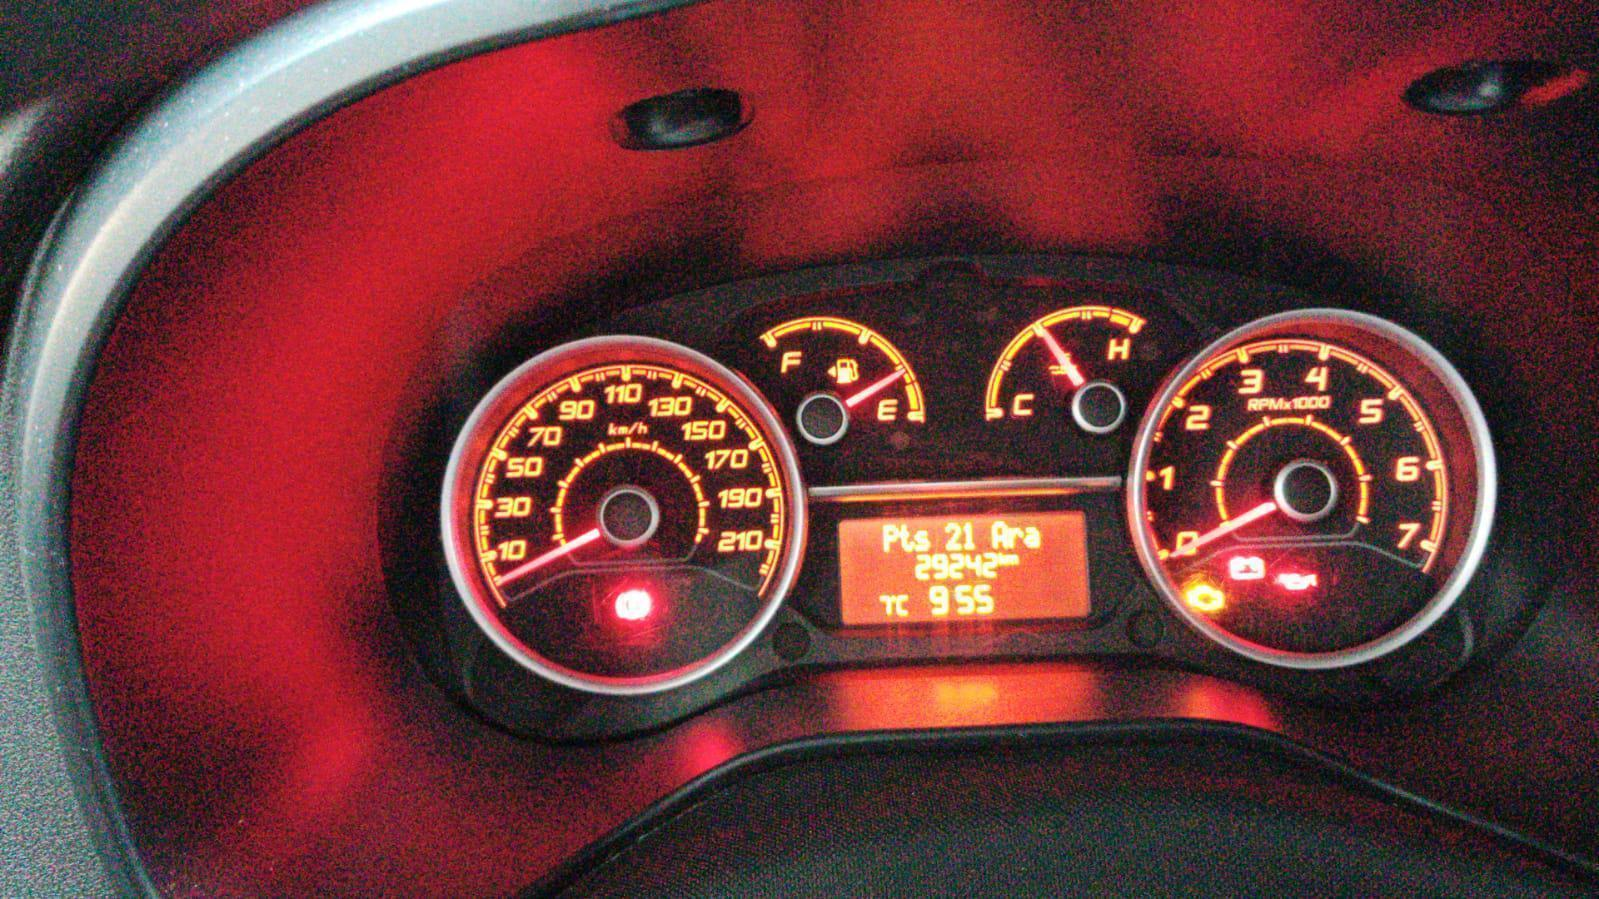1: (964, 517, 979, 549)
2: (944, 519, 963, 551), (914, 553, 931, 583), (950, 552, 965, 581), (982, 551, 996, 581)
4: (965, 553, 981, 578)
5: (954, 583, 975, 614), (975, 583, 994, 615)
7: (879, 591, 892, 618)
9: (928, 583, 949, 619), (932, 551, 949, 581)
X: (881, 522, 899, 555), (989, 521, 1009, 549), (914, 526, 932, 553), (1025, 524, 1042, 549), (898, 522, 913, 553), (895, 592, 909, 620), (1008, 526, 1024, 548)
odometer: (834, 507, 1097, 622)
